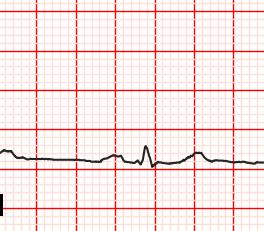LVH: (178, 146, 216, 167)
Poor R Progression: (136, 143, 157, 171)
